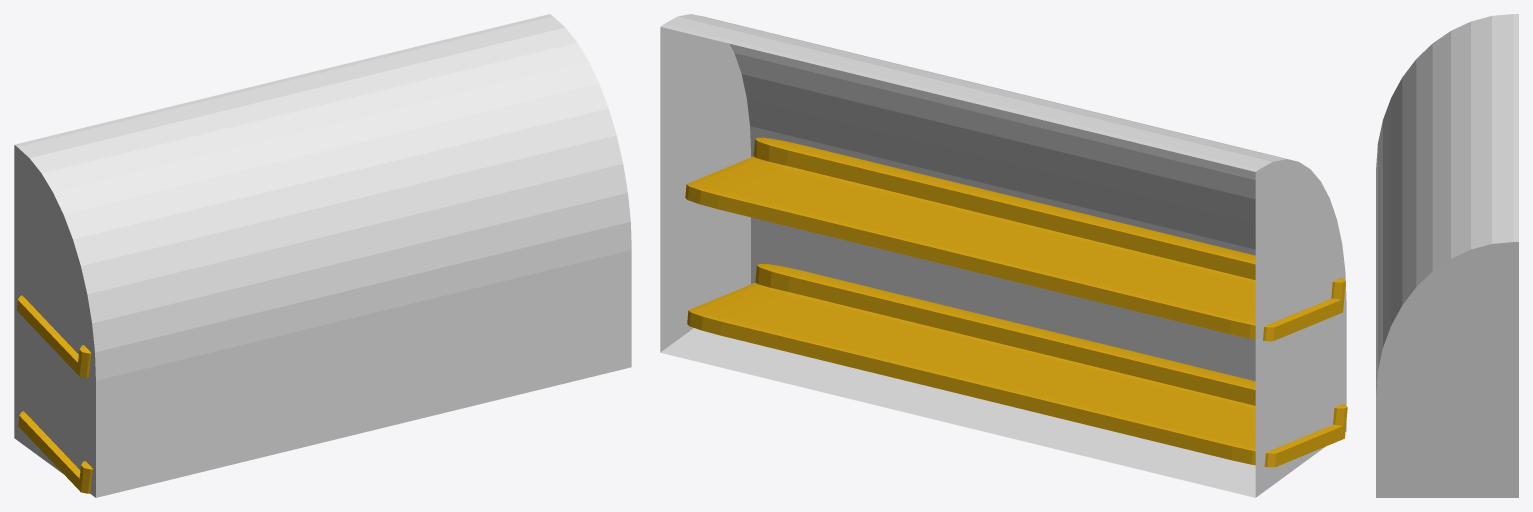
File: Fridge.fbx
The picture shows the model from 3 angles, left to right: view 1: azimuth 30°, elevation 25°; view 2: azimuth 150°, elevation 25°; view 3: azimuth 270°, elevation 25°; orthographic projection. The views are drawn at different scales.
Parts seen in each view (by area): view 1: BreadDisplayGlass, BreadDisplay1, BreadDisplay2; view 2: BreadDisplayGlass, BreadDisplay1, BreadDisplay2; view 3: BreadDisplayGlass.
Part boxes in pixels (left/top/right/bottom): BreadDisplayGlass: left=14, top=14, right=631, bottom=497; BreadDisplay1: left=16, top=295, right=91, bottom=377; BreadDisplay2: left=18, top=411, right=92, bottom=493; BreadDisplayGlass: left=660, top=14, right=1346, bottom=497; BreadDisplay1: left=685, top=137, right=1345, bottom=341; BreadDisplay2: left=687, top=263, right=1347, bottom=467; BreadDisplayGlass: left=1376, top=14, right=1518, bottom=497.
Size of the model in its own units: 185 by 95.96 by 48.4.
